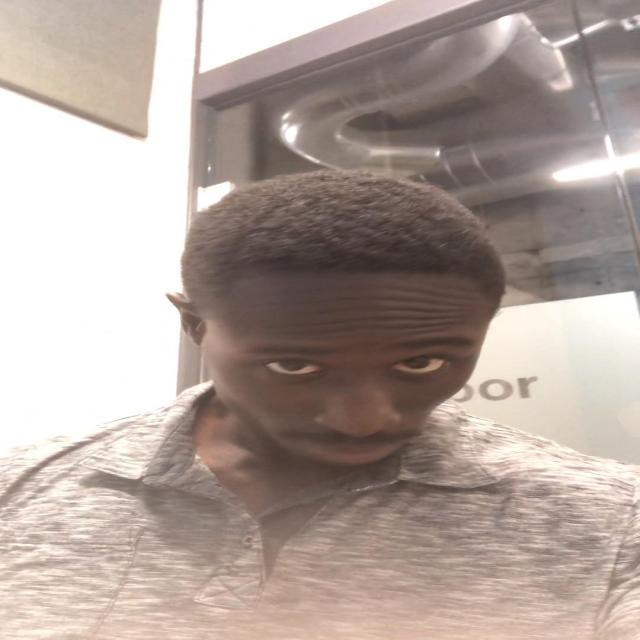face: (217, 288, 482, 461)
